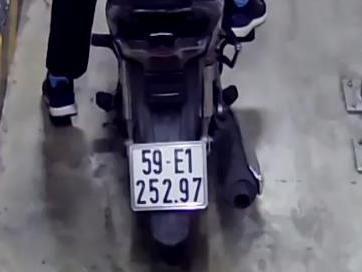num_plate: (127, 142, 209, 211)
